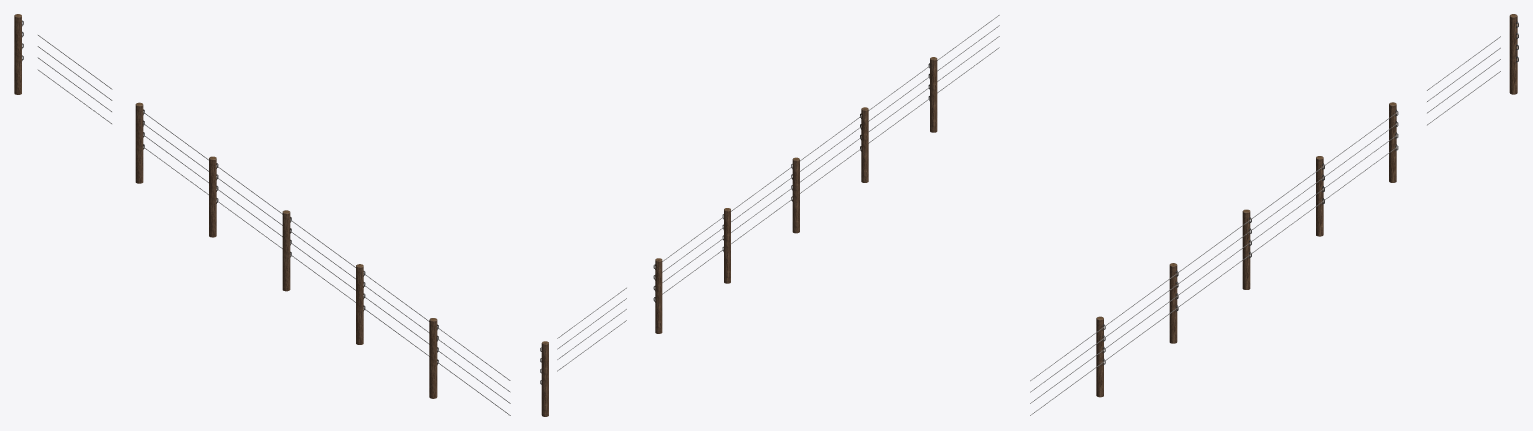
The picture shows the model from 3 angles, left to right: view 1: azimuth 30°, elevation 25°; view 2: azimuth 150°, elevation 25°; view 3: azimuth 330°, elevation 25°; orthographic projection. The views are drawn at different scales.
Parts seen in each view (by area): view 1: Cloner, Null; view 2: Cloner, Null; view 3: Cloner, Null.
Part boxes in pixels (bbox=[...]): Cloner: bbox=[135, 102, 510, 415]; Null: bbox=[14, 14, 112, 123]; Cloner: bbox=[653, 15, 999, 333]; Null: bbox=[540, 287, 626, 416]; Cloner: bbox=[1030, 102, 1398, 415]; Null: bbox=[1427, 14, 1518, 125].
Size of the model in its own units: 0.1235 by 1.1 by 12.56.
Materials: 2 (2 with a texture image).
